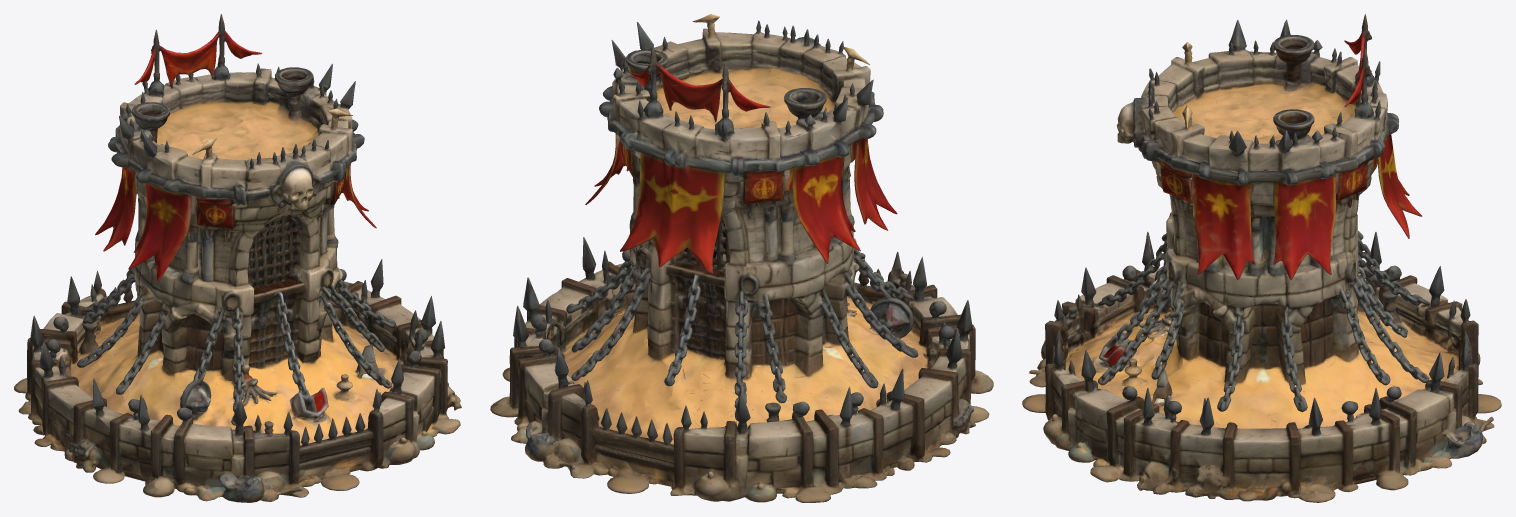
Rendered from barracks.glb.
3 renders of one model, left to right at view 1: azimuth 30°, elevation 25°; view 2: azimuth 150°, elevation 25°; view 3: azimuth 270°, elevation 25°, orthographic. The views are drawn at different scales.
Parts seen in each view (by area): view 1: Mesh1.0; view 2: Mesh1.0; view 3: Mesh1.0.
Boxes of the visible parts, box(x1,y1,x2,y2) form: Mesh1.0: box(14, 14, 461, 502); Mesh1.0: box(490, 14, 993, 502); Mesh1.0: box(1022, 14, 1501, 502).
Size of the model in its own units: 2 by 1.73 by 2.
1 material, 1 textured.
